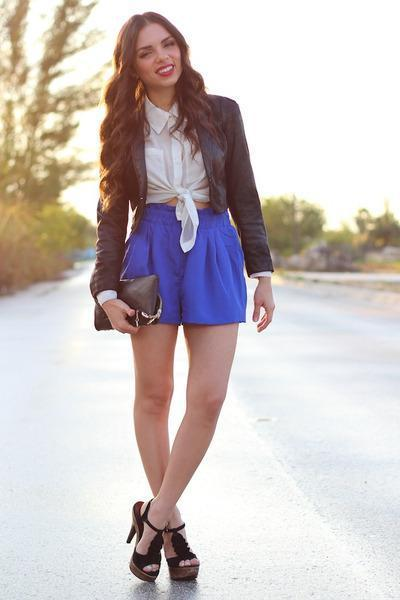bag: (94, 274, 160, 330)
jacket: (90, 97, 273, 299)
shirt: (145, 100, 208, 252)
shoe: (127, 501, 199, 588)
skirt: (120, 201, 247, 329)
